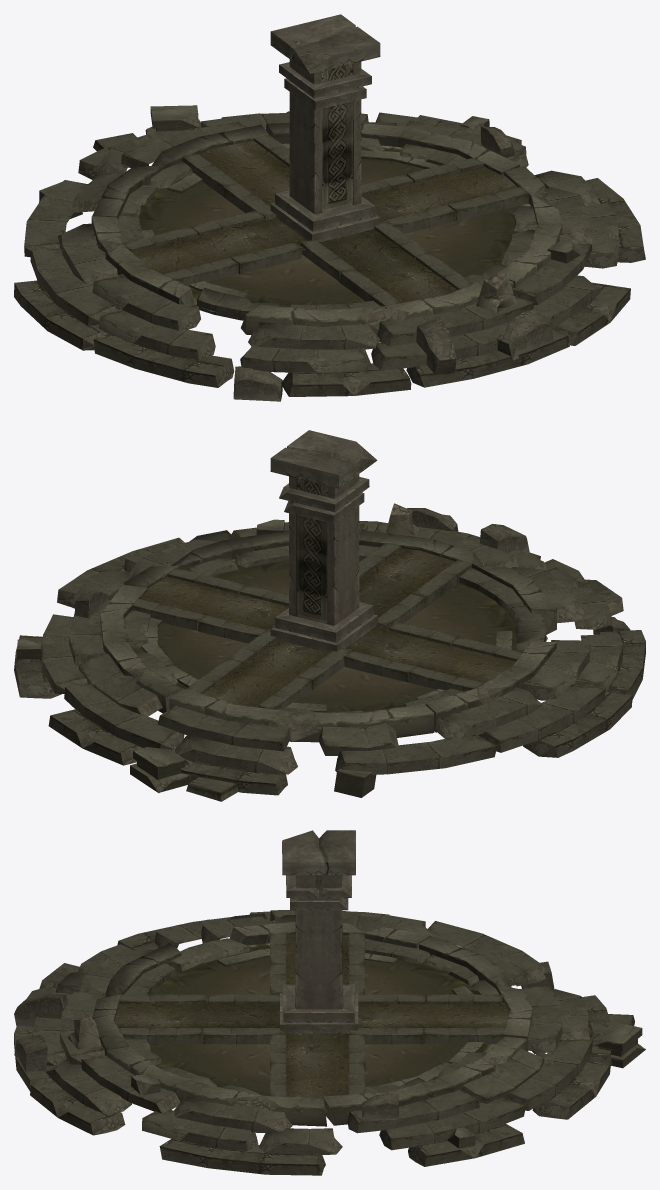
The picture shows the model from 3 angles, top to bottom: view 1: azimuth 30°, elevation 25°; view 2: azimuth 150°, elevation 25°; view 3: azimuth 270°, elevation 25°; orthographic projection. The views are drawn at different scales.
Visible parts, largest first — view 1: fx_wj6; view 2: fx_wj6; view 3: fx_wj6.
Boxes of the visible parts, <box> form: fx_wj6: <box>14,14,645,401</box>; fx_wj6: <box>14,430,645,801</box>; fx_wj6: <box>14,830,645,1175</box>.
Bounding box in the file's own units: 1121 × 447 × 1175.
1 material, 1 textured.
